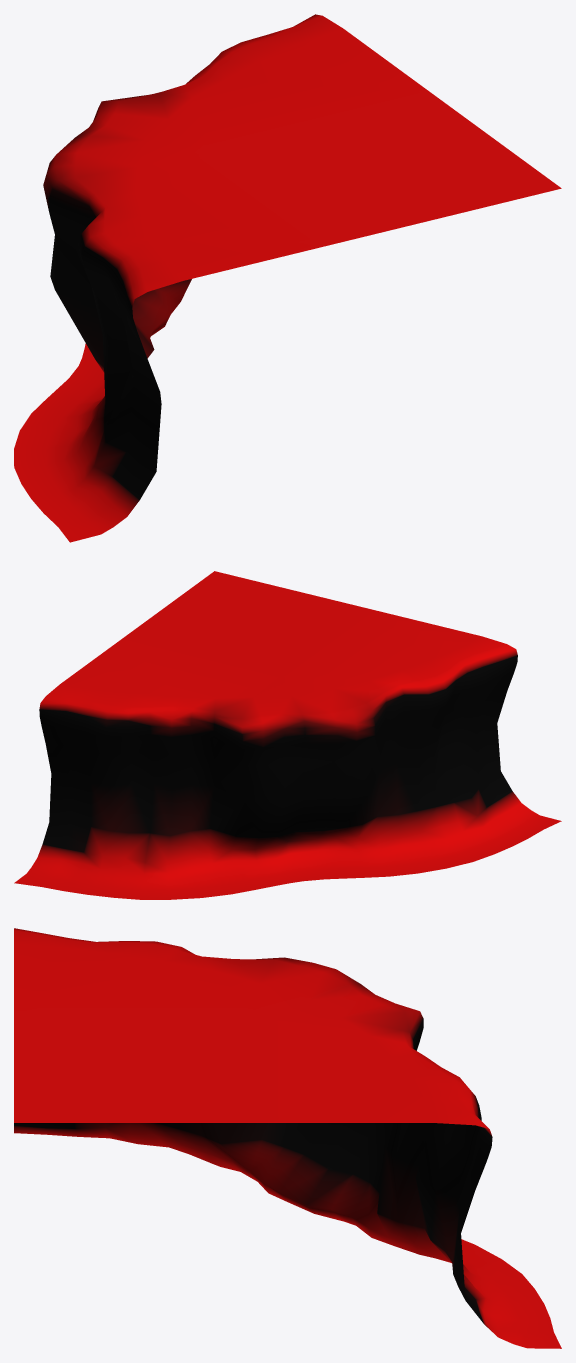
File: GroundCliff03D 1M Background.fbx
The picture shows the model from 3 angles, top to bottom: view 1: azimuth 30°, elevation 25°; view 2: azimuth 150°, elevation 25°; view 3: azimuth 270°, elevation 25°; orthographic projection. The views are drawn at different scales.
Parts seen in each view (by area): view 1: GroundCliff03D 1M Background; view 2: GroundCliff03D 1M Background; view 3: GroundCliff03D 1M Background.
Part boxes in pixels (x1,y1,x2,y2): GroundCliff03D 1M Background: (14, 14, 561, 542); GroundCliff03D 1M Background: (14, 571, 561, 899); GroundCliff03D 1M Background: (14, 928, 561, 1348).
Bounding box in the file's own units: 2.2 × 1 × 2.2.
